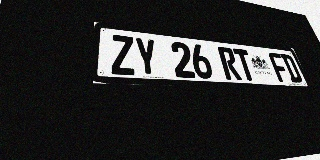2: (170, 41, 196, 78)
6: (189, 43, 214, 79)
D: (280, 54, 304, 83)
F: (268, 52, 292, 82)
R: (217, 46, 242, 80)
T: (232, 48, 257, 81)
Y: (134, 37, 159, 77)
Z: (110, 34, 136, 76)
